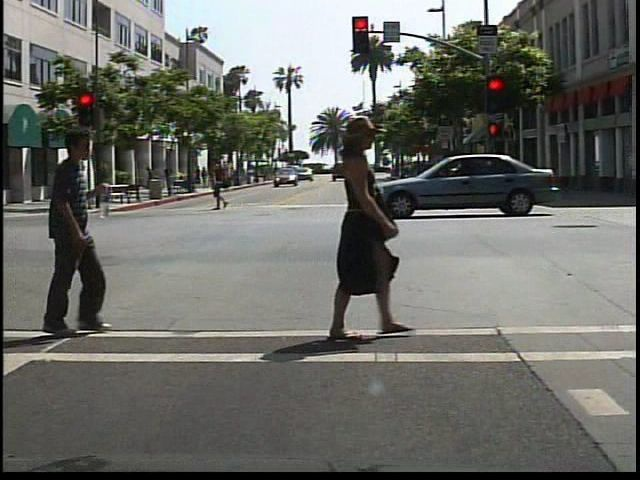person: (296, 124, 420, 347), (29, 129, 115, 340), (208, 155, 235, 212), (143, 164, 164, 201)
